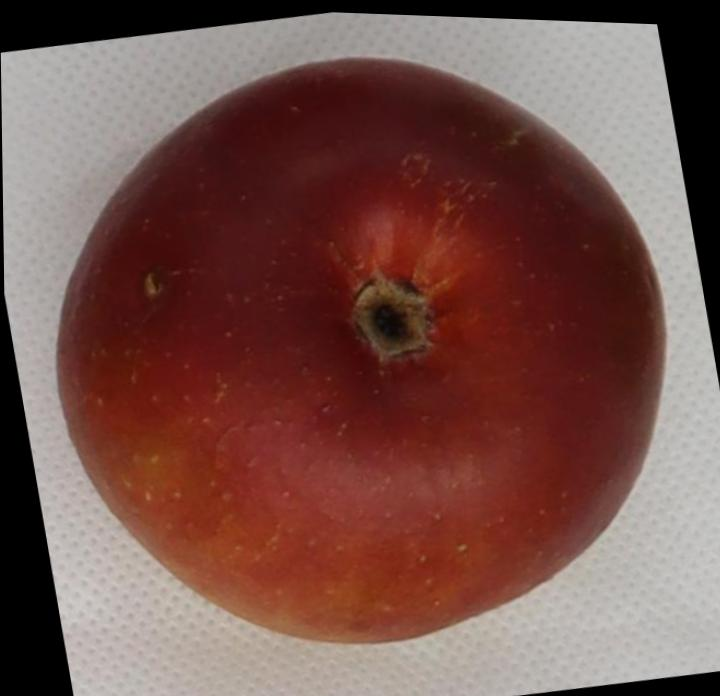apple: (56, 58, 663, 643)
surface_damage: (142, 272, 163, 299)
